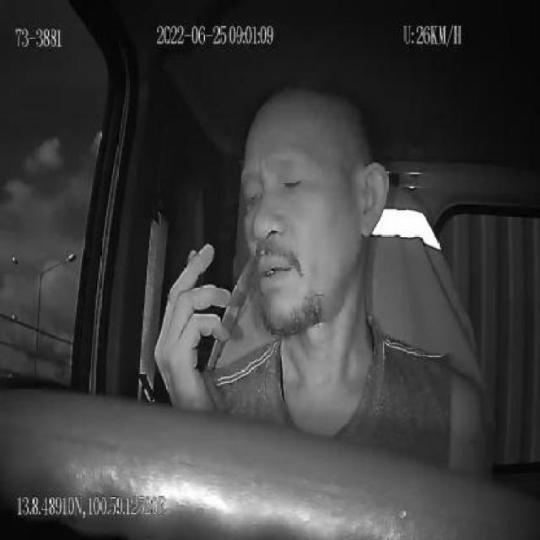phone: (183, 173, 214, 366)
